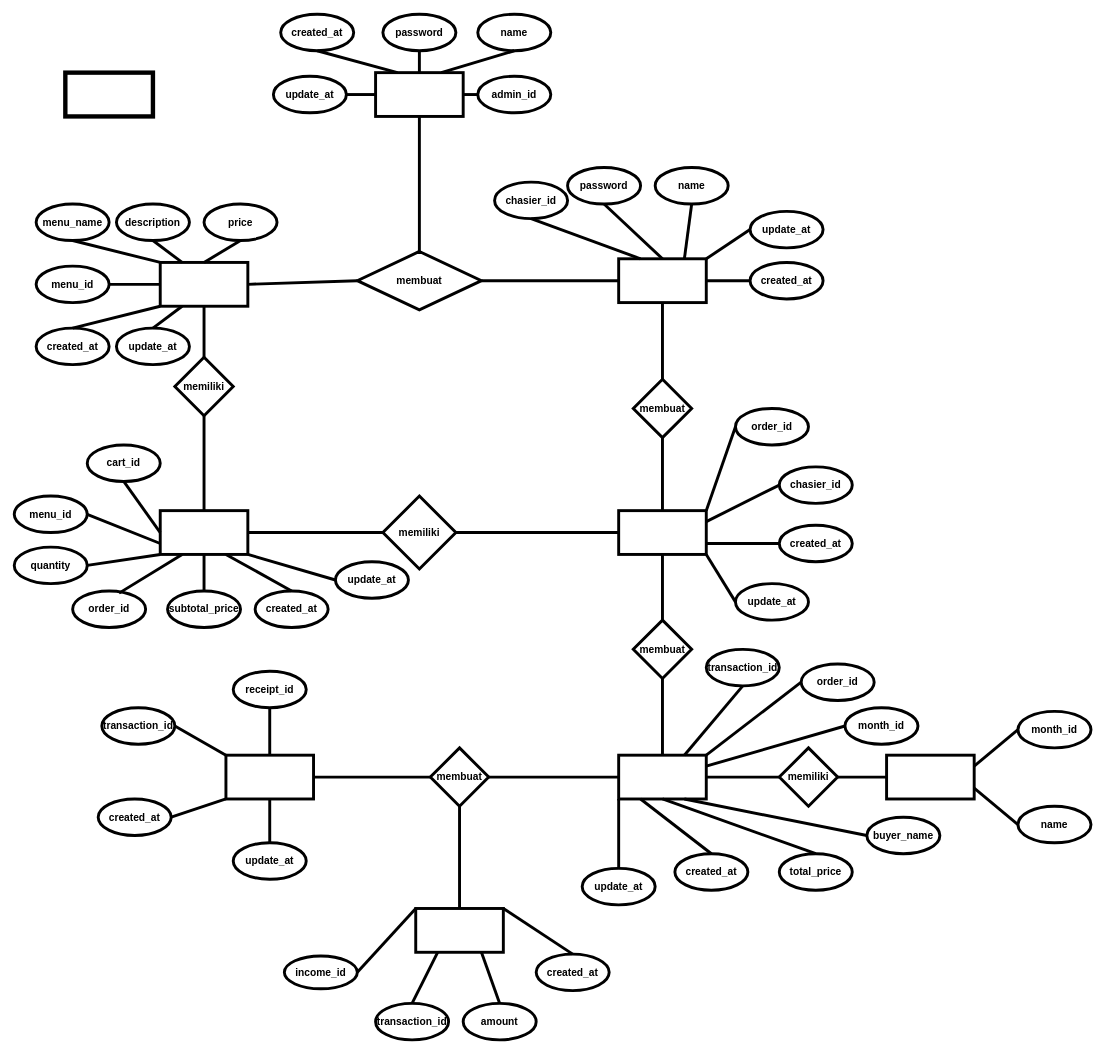
This 1104x1053 diagram has some shape labels left out. The box of each missing label's shape, as (x1, y1, x2, y2) in pixels:
admin: (374, 71, 464, 118)
aplikasi rumah makan: (63, 70, 155, 118)
cart: (158, 509, 249, 556)
chasier: (617, 257, 707, 304)
menu: (158, 261, 249, 307)
month: (885, 753, 975, 800)
order: (617, 509, 707, 556)
receipt: (224, 753, 315, 800)
report: (414, 907, 504, 953)
transaction: (617, 753, 707, 800)
